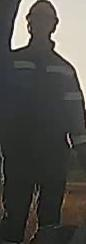helmet: (25, 0, 60, 29)
vest: (9, 56, 78, 161)
